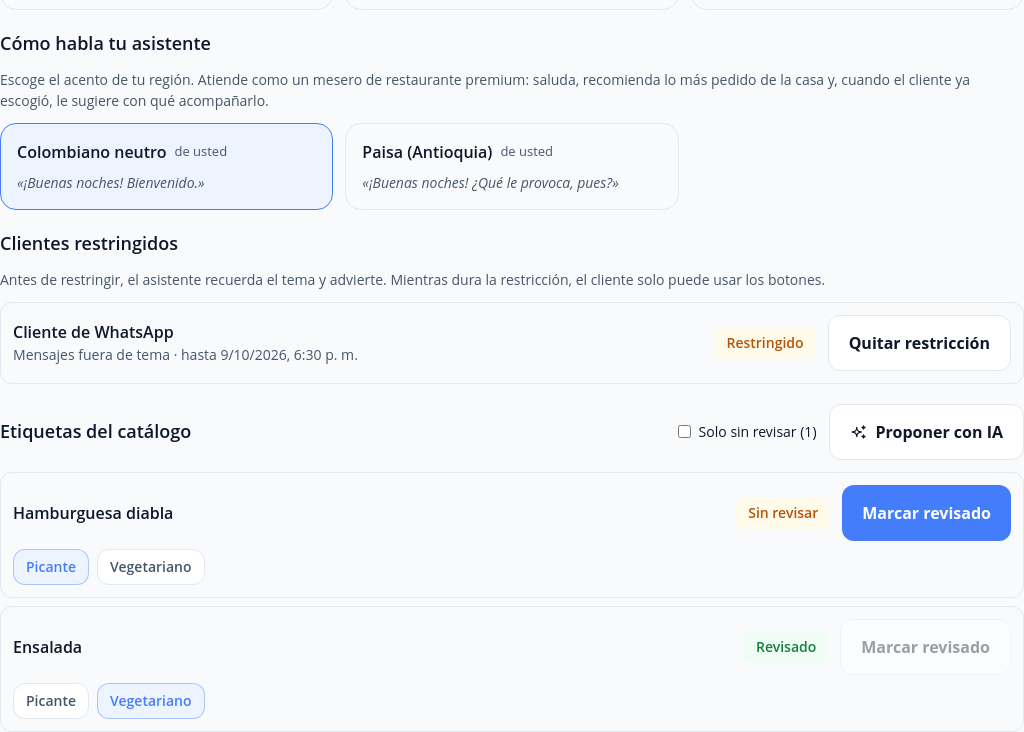
Scenario: revisa las etiquetas de un plato
(page scrolled)
Click the button "Vegetariano" below "Hamburguesa diabla" at (151, 566), box top-left (97, 548), bottom-right (204, 584)
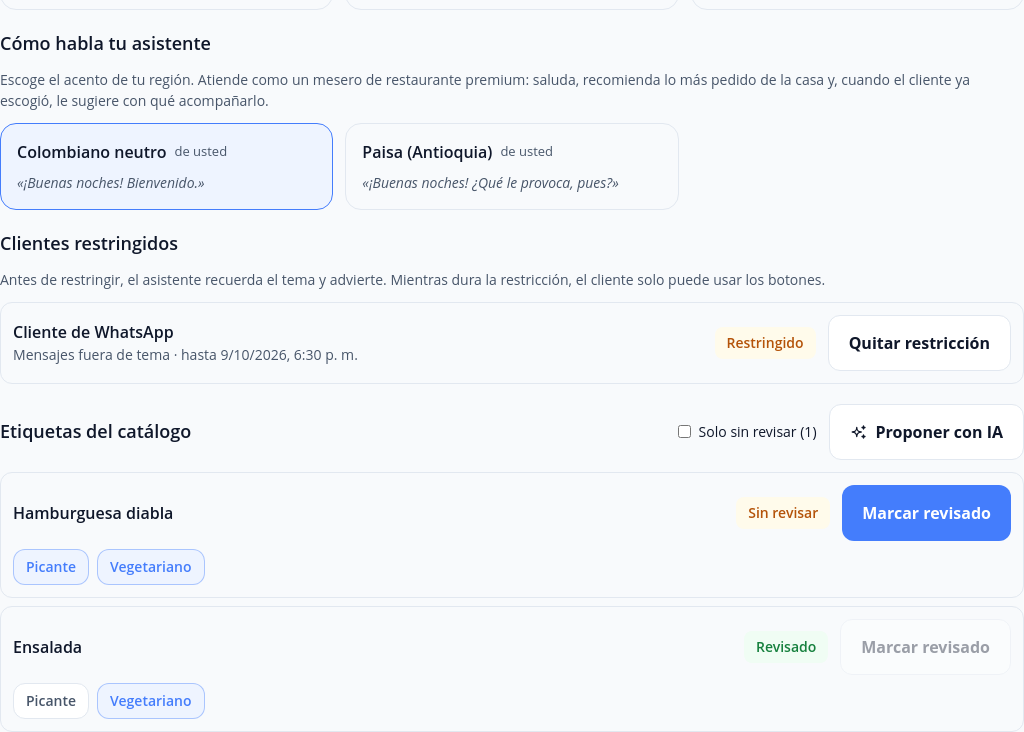
Click the button "Marcar revisado" in the row of "Hamburguesa diabla" at (927, 512), box top-left (842, 484), bottom-right (1011, 540)
(page scrolled)
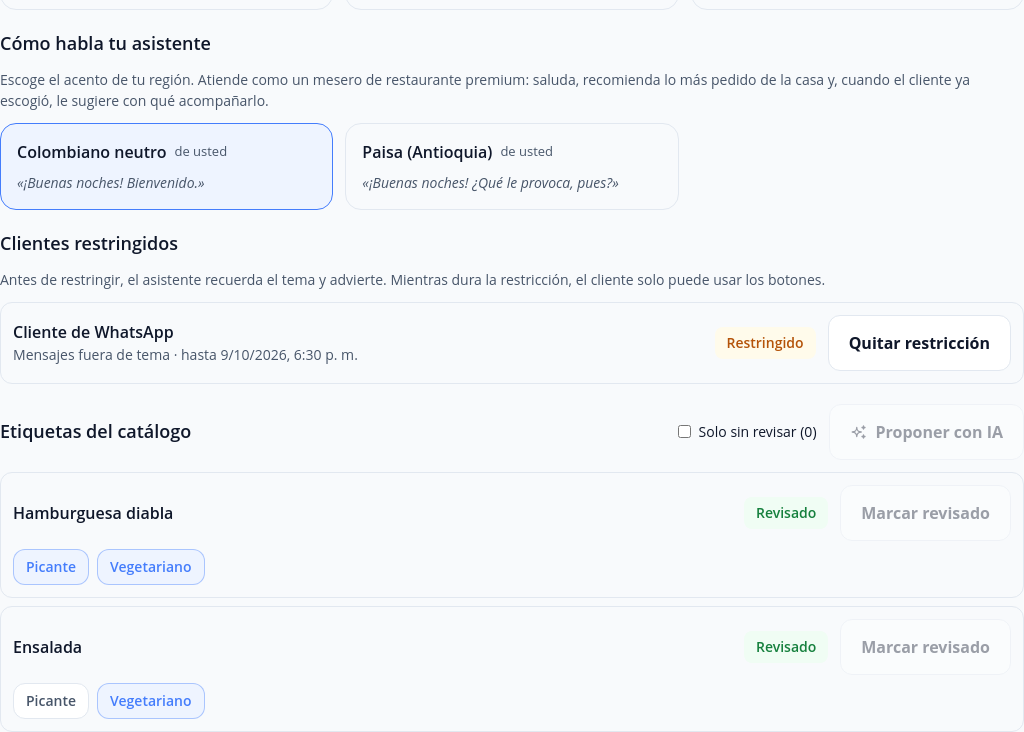
expect the 1st text "Revisado" is shown: met, box top-left (744, 496), bottom-right (828, 528)
Click the checkbox labelled "Solo sin revisar (0)" at (684, 432), box top-left (678, 425), bottom-right (691, 438)
(page scrolled)
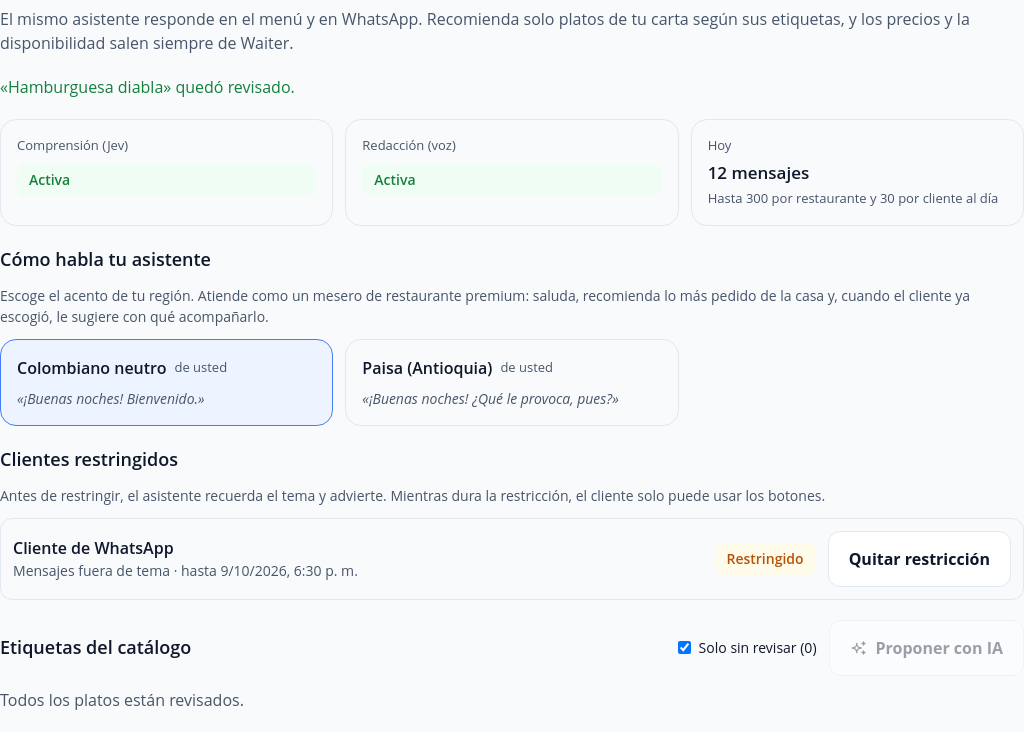
expect the text "Todos los platos están revisados." is shown: met, box top-left (0, 688), bottom-right (244, 710)
